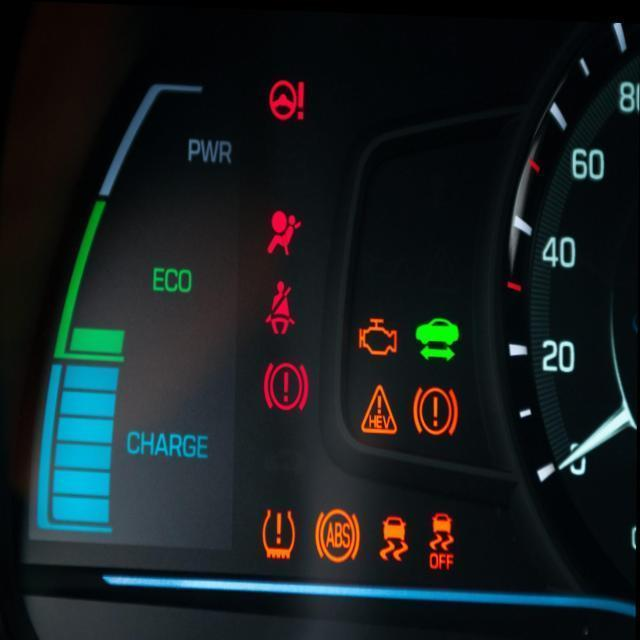Electronic Power Steering: (262, 78, 308, 124)
Seat Belt: (258, 278, 296, 336)
